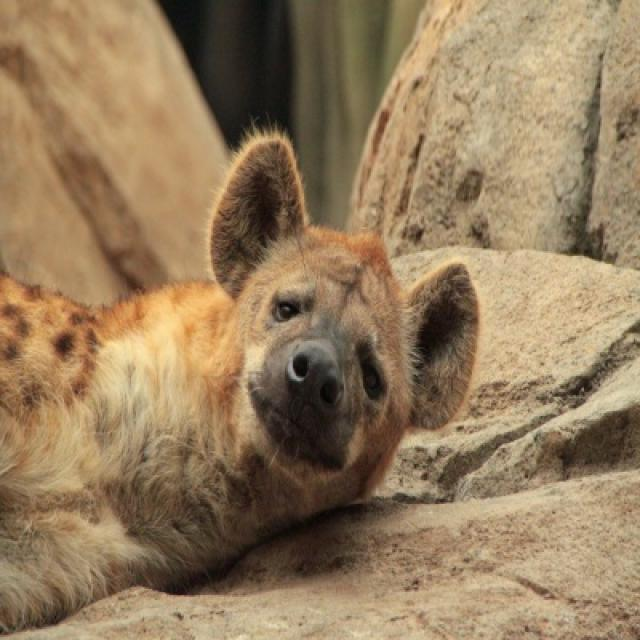hyena: (0, 133, 482, 638)
